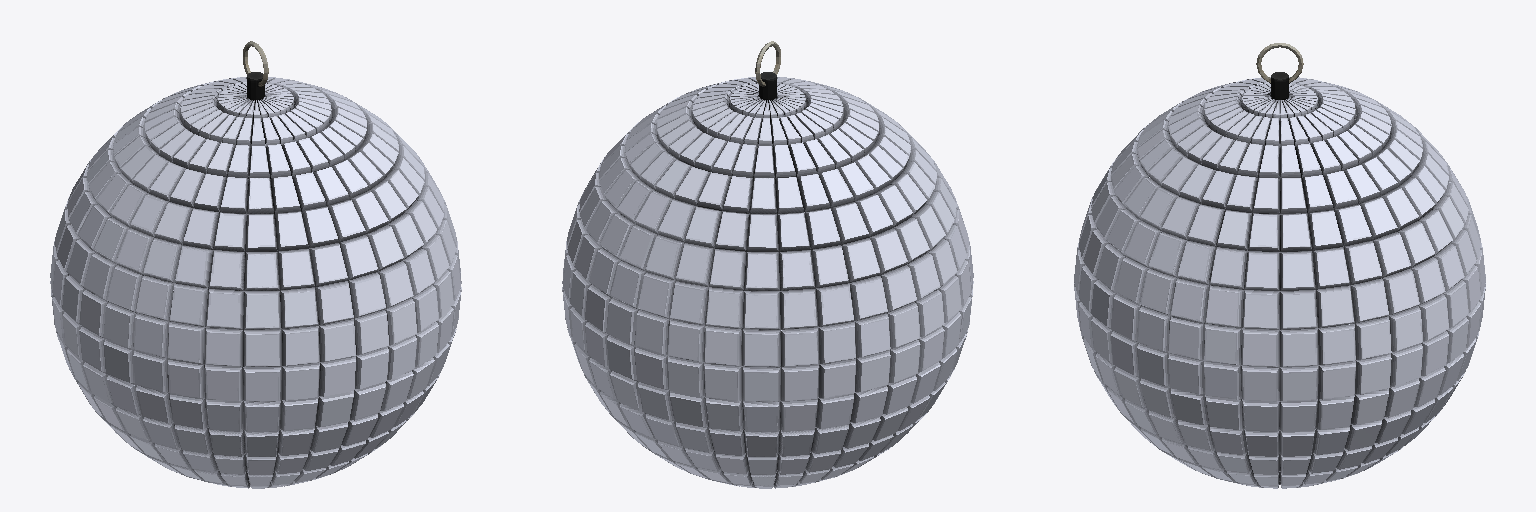
3 views of the same model, side by side, from view 1: azimuth 30°, elevation 25°; view 2: azimuth 150°, elevation 25°; view 3: azimuth 270°, elevation 25° (orthographic).
Parts seen in each view (by area): view 1: Sphere003; view 2: Sphere003; view 3: Sphere003.
Part boxes in pixels (left/top/right/bottom): Sphere003: left=50, top=41, right=461, bottom=488; Sphere003: left=562, top=41, right=973, bottom=488; Sphere003: left=1074, top=43, right=1485, bottom=488.
Size of the model in its own units: 64.21 by 73.42 by 64.21.
1 materials, 1 textured.